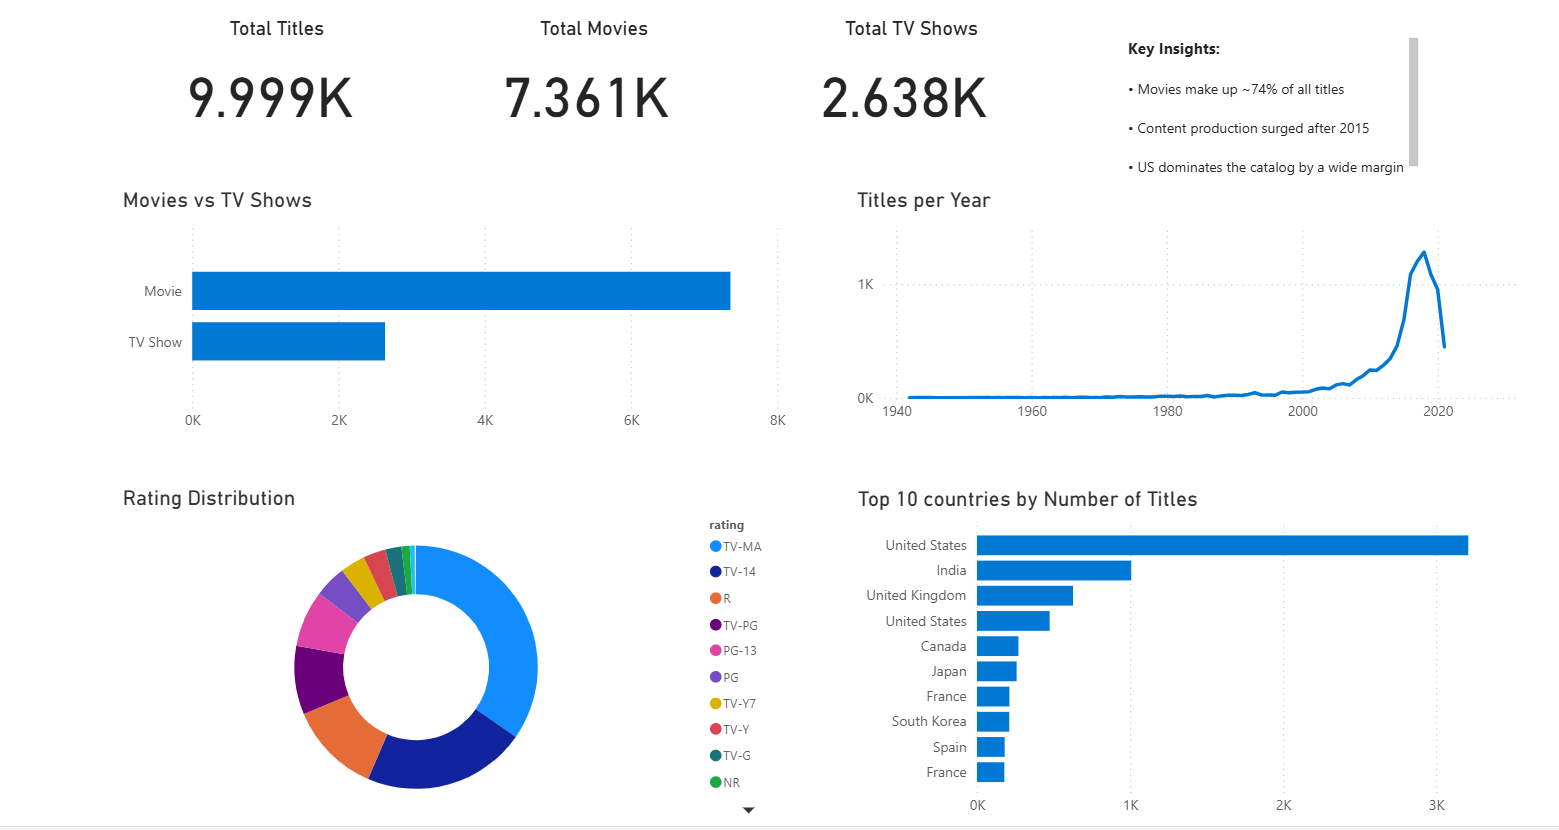

This screenshot's page, from the dashboard's own definition file:
{"tool":"powerbi","page":{"name":"Charts","canvas":[1280,720],"ordinal":0},"visuals":[{"type":"clusteredBarChart","title":"Movies vs TV Shows","fields":{"Category":["netflix_titles.type"],"Y":["CountNonNull(netflix_titles.title)"]},"box":[49.6,167.3,582.6,219.8],"z":0},{"type":"lineChart","title":"Titles per Year","fields":{"Category":["netflix_titles.release_year"],"Y":["CountNonNull(netflix_titles.title)"]},"box":[683.8,167.3,583.6,212],"z":1000},{"type":"donutChart","title":"Rating Distribution","fields":{"Category":["netflix_titles.rating"],"Y":["CountNonNull(netflix_titles.title)"]},"box":[49.6,425.3,583,293.7],"z":2000},{"type":"cardVisual","title":"Total Titles","fields":{"Data":["CountNonNull(netflix_titles.title)"]},"box":[91.4,19.5,191.6,111.9],"z":3000},{"type":"cardVisual","title":"Total Movies","fields":{"Data":["CountNonNull(netflix_titles.title)"]},"box":[364.7,19.5,193.6,111.9],"z":4000},{"type":"cardVisual","title":"Total TV Shows","fields":{"Data":["CountNonNull(netflix_titles.title)"]},"box":[640,19.5,192.6,111.9],"z":5000},{"type":"clusteredBarChart","title":"Top 10 countries by Number of Titles","fields":{"Category":["netflix_titles.country"],"Y":["CountNonNull(netflix_titles.title)"]},"box":[684.7,426,583,293.7],"z":6000},{"type":"textbox","box":[918.2,34,260.7,133.3],"z":7000}]}

Visuals, with their boxes on the page's 1280x720 design canvas (x1, y1, x2, y2). These are canvas units, not pixel positions in the 1559x830 screenshot, which may show the page scaled, cropped or inside an application window:
"Movies vs TV Shows" clusteredBarChart: bbox=[50, 167, 632, 387]
"Titles per Year" lineChart: bbox=[684, 167, 1267, 379]
"Rating Distribution" donutChart: bbox=[50, 425, 633, 719]
"Total Titles" cardVisual: bbox=[91, 20, 283, 131]
"Total Movies" cardVisual: bbox=[365, 20, 558, 131]
"Total TV Shows" cardVisual: bbox=[640, 20, 833, 131]
"Top 10 countries by Number of Titles" clusteredBarChart: bbox=[685, 426, 1268, 720]
textbox: bbox=[918, 34, 1179, 167]
